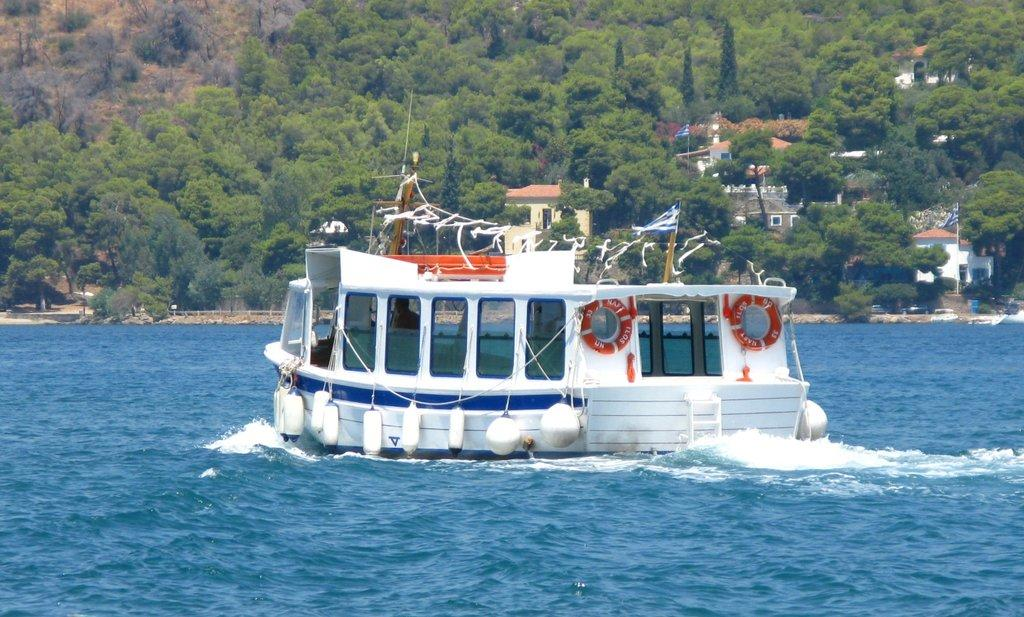PassengerShip: (248, 175, 826, 482)
